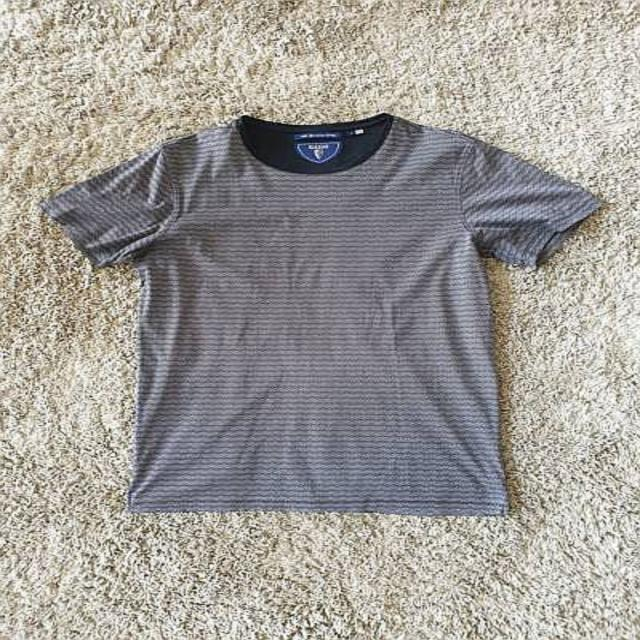T_SHIRT: (30, 107, 606, 529)
